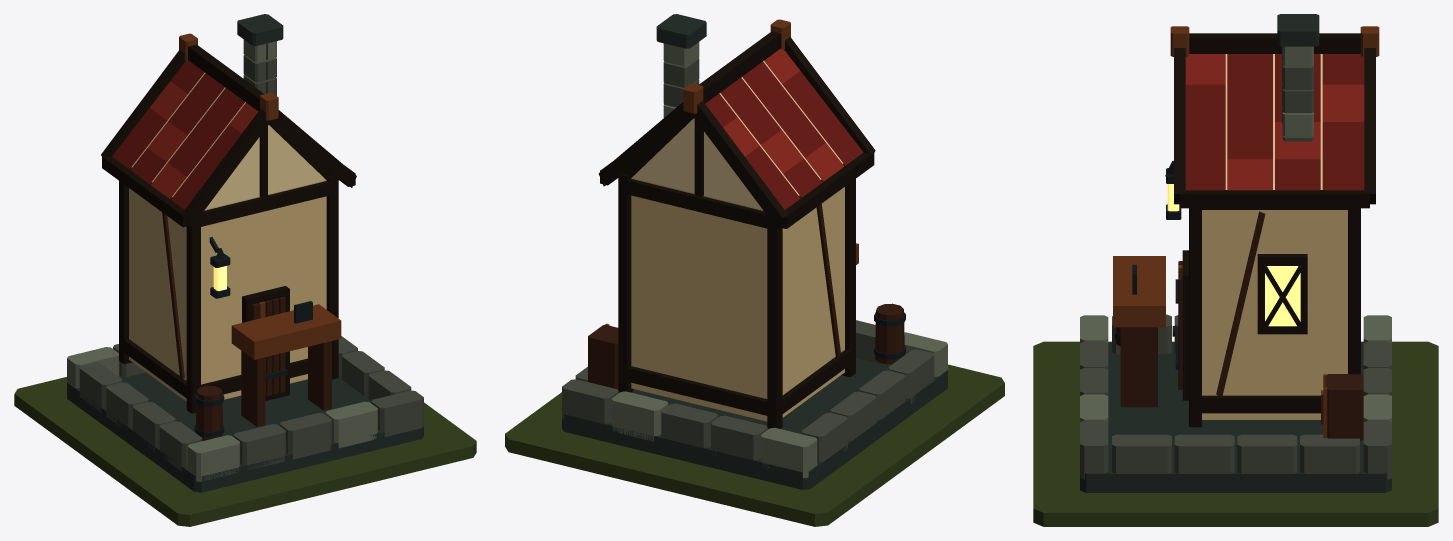
The model's file is butchery_t4.glb.
3 views of the same model, side by side, from view 1: azimuth 30°, elevation 25°; view 2: azimuth 150°, elevation 25°; view 3: azimuth 270°, elevation 25° (orthographic). The views are drawn at different scales.
Visible parts, largest first — view 1: MMR | butchery | T04 Architecture.001, MMR | butchery | Tier 04 Ground.001; view 2: MMR | butchery | T04 Architecture.001, MMR | butchery | Tier 04 Ground.001; view 3: MMR | butchery | T04 Architecture.001, MMR | butchery | Tier 04 Ground.001.
Part boxes in pixels (<box>): MMR | butchery | T04 Architecture.001: <box>67,14,423,492</box>; MMR | butchery | Tier 04 Ground.001: <box>14,377,476,526</box>; MMR | butchery | T04 Architecture.001: <box>562,14,947,489</box>; MMR | butchery | Tier 04 Ground.001: <box>505,364,1004,526</box>; MMR | butchery | T04 Architecture.001: <box>1080,14,1391,492</box>; MMR | butchery | Tier 04 Ground.001: <box>1033,341,1438,526</box>.
Bounding box in the file's own units: 1.3 × 1.56 × 1.3.
Materials: 2 (1 with a texture image).
